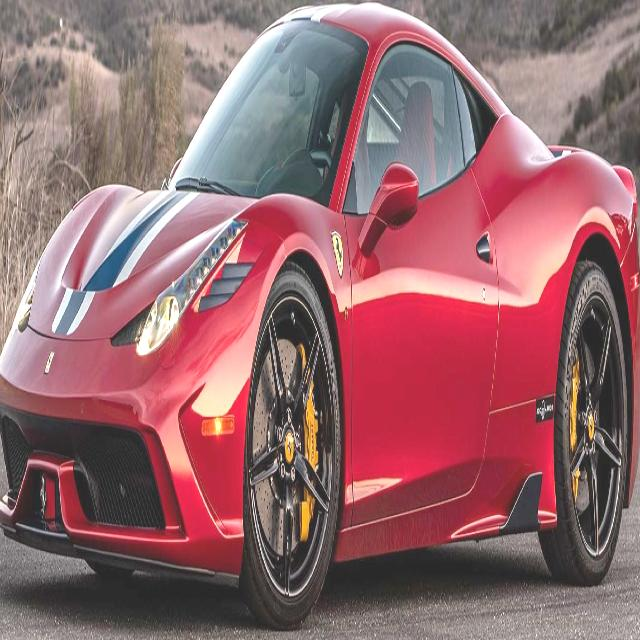red: (1, 20, 640, 612)
